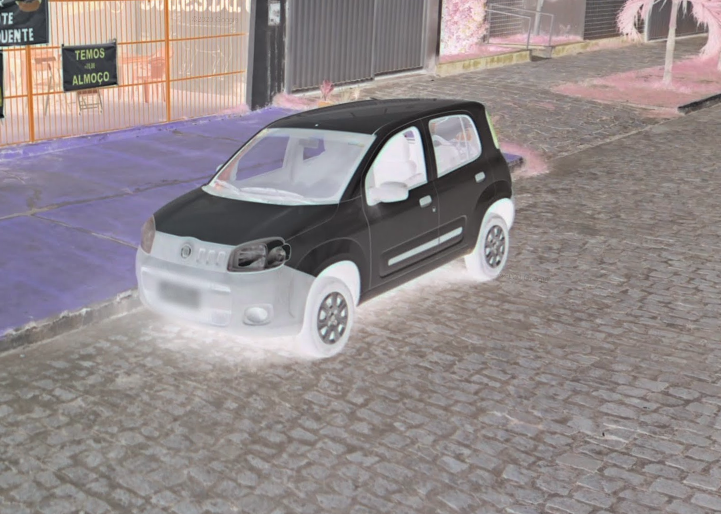car: (132, 94, 516, 362)
